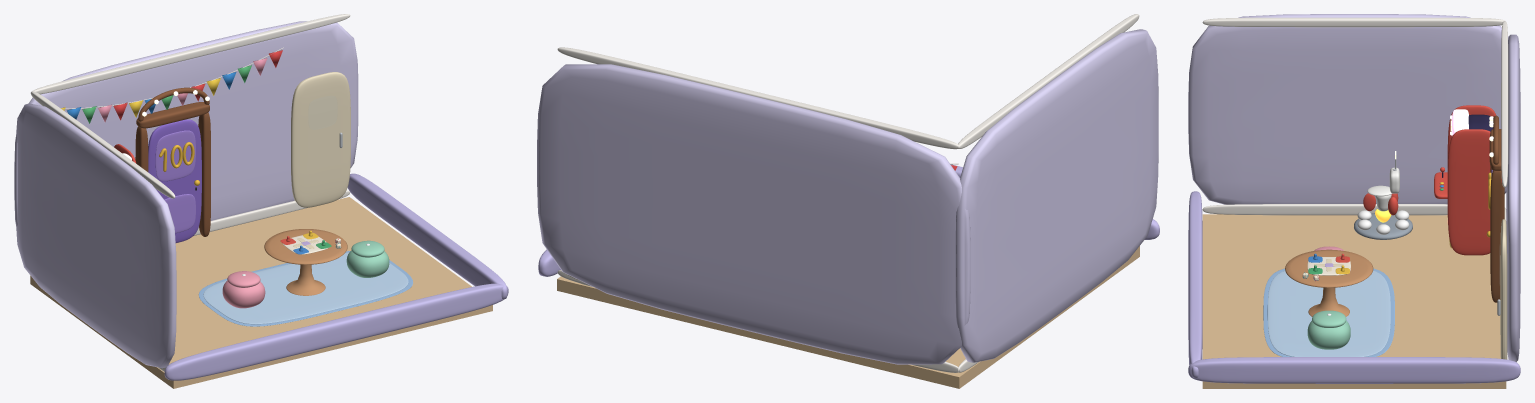
File: casa_juegos.glb
3 renders of one model, left to right at view 1: azimuth 30°, elevation 25°; view 2: azimuth 150°, elevation 25°; view 3: azimuth 270°, elevation 25°, orthographic. The views are drawn at different scales.
Visible parts, largest first — view 1: pared izquierda, pared fondo, piso, muro bajo frente, puerta, tapete, muro bajo derecha, cornisa fondo, hoja cien, tabla mesa juegos, tablero alto cien, jamba cien.001 (+12 smaller); view 2: pared fondo, pared izquierda, piso, cornisa fondo, cornisa izquierda; view 3: pared izquierda, piso, muro bajo derecha, tapete, lado arcade.001, pared fondo, cornisa izquierda, muro bajo frente, zócalo izquierdo, tabla mesa juegos, jamba cien.001, cornisa fondo (+13 smaller).
Boxes of the visible parts, left/top/right/bottom form: pared izquierda: left=16, top=103, right=176, bottom=368; pared fondo: left=14, top=21, right=358, bottom=226; piso: left=30, top=197, right=492, bottom=388; muro bajo frente: left=164, top=283, right=508, bottom=380; puerta: left=291, top=72, right=350, bottom=207; tapete: left=203, top=252, right=408, bottom=324; muro bajo derecha: left=347, top=173, right=507, bottom=299; cornisa fondo: left=30, top=14, right=350, bottom=94; hoja cien: left=148, top=119, right=201, bottom=242; tabla mesa juegos: left=264, top=229, right=347, bottom=264; tablero alto cien: left=155, top=130, right=195, bottom=181; jamba cien.001: left=198, top=112, right=210, bottom=236; pared fondo: left=537, top=64, right=970, bottom=364; pared izquierda: left=955, top=29, right=1158, bottom=362; piso: left=557, top=246, right=1139, bottom=388; cornisa fondo: left=557, top=47, right=959, bottom=149; cornisa izquierda: left=957, top=14, right=1139, bottom=148; pared izquierda: left=1188, top=14, right=1520, bottom=204; piso: left=1202, top=214, right=1506, bottom=388; muro bajo derecha: left=1188, top=357, right=1520, bottom=383; tapete: left=1267, top=270, right=1390, bottom=356; lado arcade.001: left=1447, top=129, right=1490, bottom=255; pared fondo: left=1506, top=34, right=1520, bottom=362; cornisa izquierda: left=1202, top=17, right=1504, bottom=27; muro bajo frente: left=1188, top=191, right=1202, bottom=378; zócalo izquierdo: left=1202, top=204, right=1506, bottom=215; tabla mesa juegos: left=1285, top=249, right=1373, bottom=287; jamba cien.001: left=1490, top=170, right=1504, bottom=302; cornisa fondo: left=1501, top=21, right=1508, bottom=187.
Bounding box in the file's own units: 5.8 × 3.15 × 4.6.
